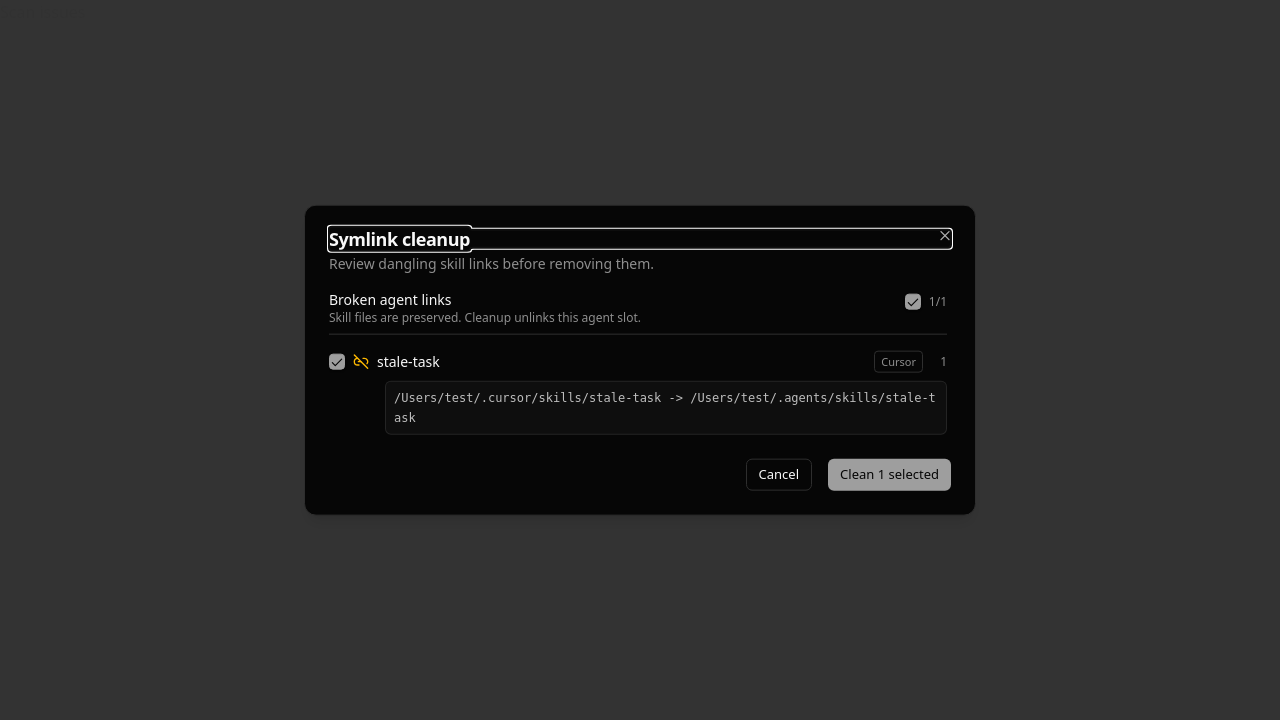
Test: SymlinkCleanupDialog › stops cleanup when the fresh scan no longer matches the reviewed plan
Click the button "Clean 1 selected". click: coordinates (890, 474)
box: [828,458,951,490]
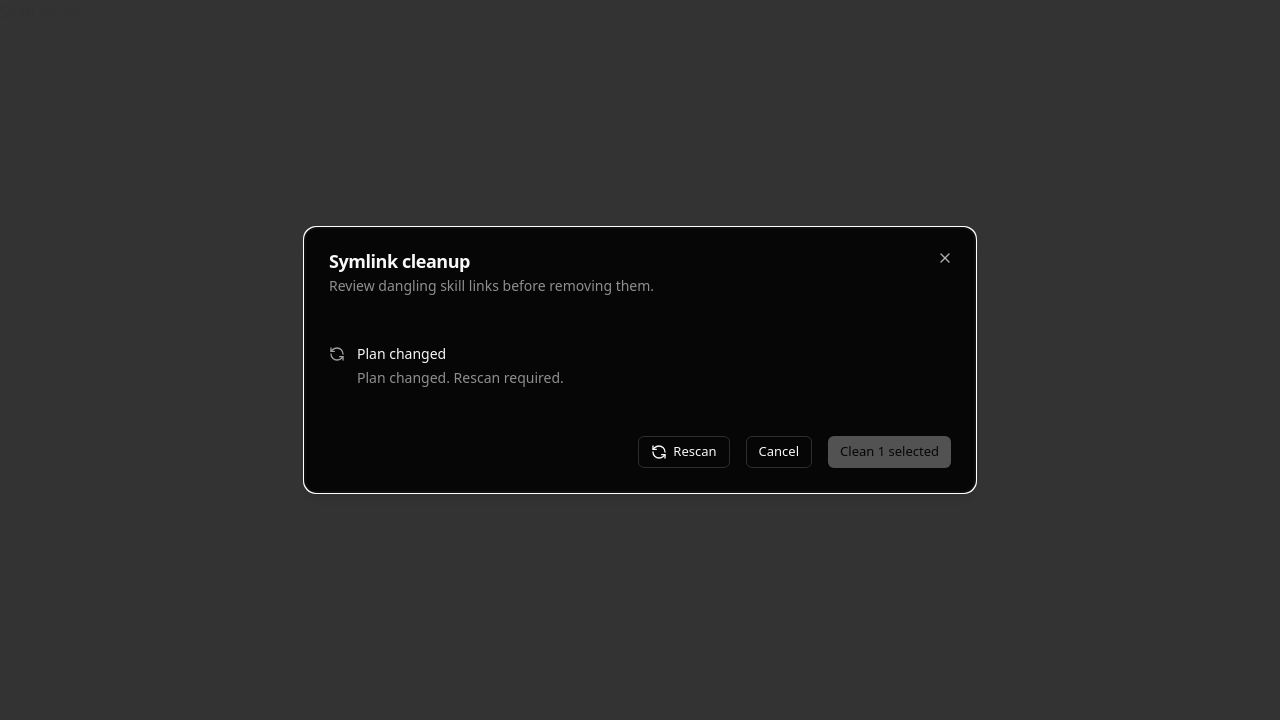
Expected: the text "Plan changed" is shown, [357,344,446,363]
